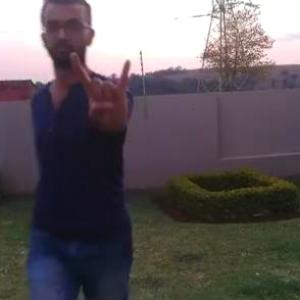takeoff-hand: (69, 46, 135, 134)
